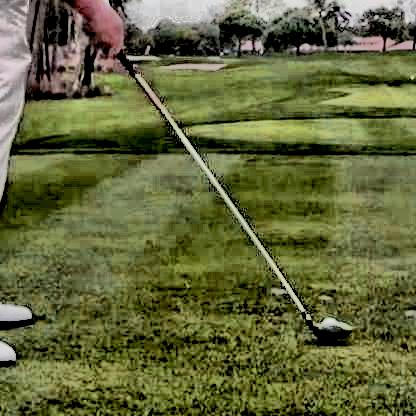golfball: (315, 315, 343, 338)
